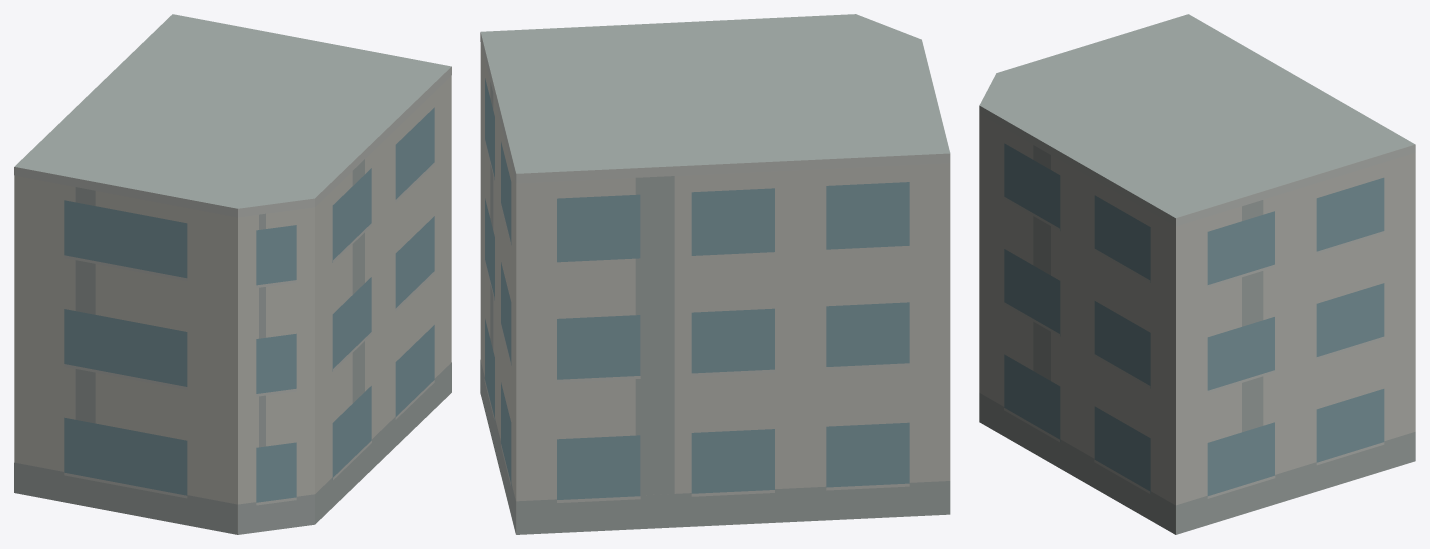
Rendered from residential-d6ea2348-2f04-4fe3-b641-507899a24709.glb.
3 views of the same model, side by side, from view 1: azimuth 30°, elevation 25°; view 2: azimuth 150°, elevation 25°; view 3: azimuth 270°, elevation 25° (orthographic). The views are drawn at different scales.
Parts seen in each view (by area): view 1: residential-d6ea2348-2f04-4fe3-b641-507899a24709.tmp; view 2: residential-d6ea2348-2f04-4fe3-b641-507899a24709.tmp; view 3: residential-d6ea2348-2f04-4fe3-b641-507899a24709.tmp.
Boxes of the visible parts, box(x1,y1,x2,y2) form: residential-d6ea2348-2f04-4fe3-b641-507899a24709.tmp: box(14, 14, 451, 534); residential-d6ea2348-2f04-4fe3-b641-507899a24709.tmp: box(480, 14, 950, 534); residential-d6ea2348-2f04-4fe3-b641-507899a24709.tmp: box(979, 14, 1415, 534).
Size of the model in its own units: 12.66 by 9.15 by 11.43.
